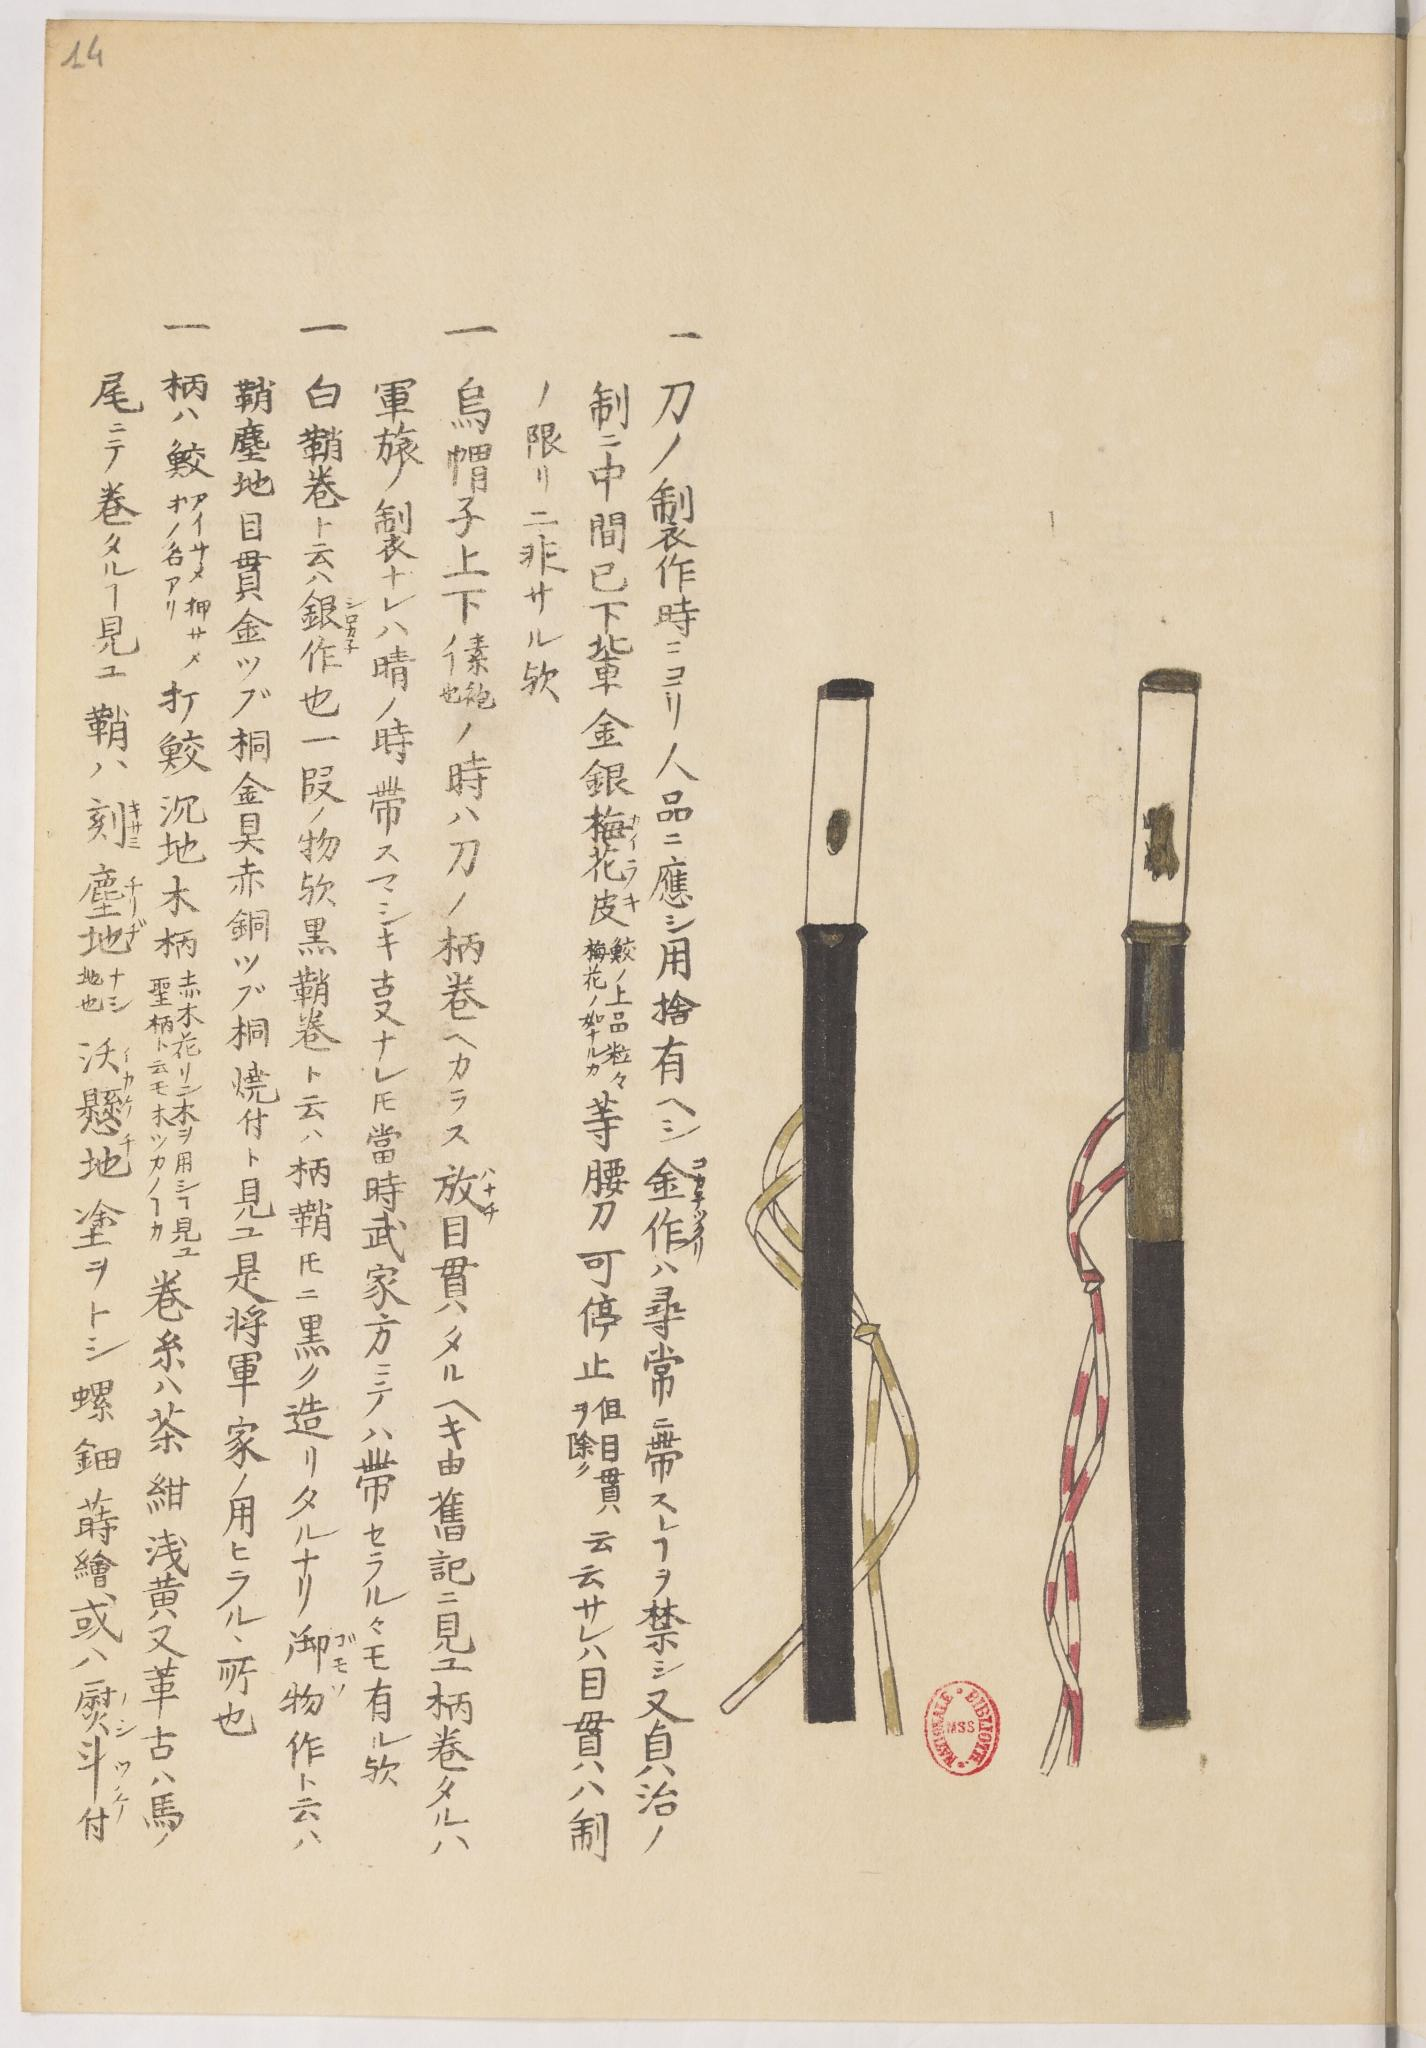MainZone-Character: (72, 862, 153, 920), (72, 1074, 140, 1136), (67, 1679, 139, 1737), (433, 1163, 500, 1223), (283, 1622, 360, 1675), (641, 1152, 715, 1206), (81, 792, 146, 853), (296, 585, 366, 636), (75, 1788, 137, 1846), (73, 1131, 139, 1184), (645, 1211, 711, 1262), (68, 1738, 139, 1785), (76, 918, 156, 959), (277, 1676, 347, 1721), (579, 800, 645, 848), (293, 638, 366, 674), (582, 887, 645, 929), (582, 843, 645, 885), (73, 1033, 137, 1074)
MainZone-Ruby: (332, 1626, 363, 1673), (114, 1690, 142, 1740), (478, 1164, 498, 1223), (693, 1152, 713, 1208), (691, 1211, 711, 1264), (342, 590, 364, 638), (126, 797, 143, 853), (112, 1787, 134, 1827), (121, 1074, 137, 1120), (126, 873, 142, 917), (621, 853, 641, 885), (627, 809, 643, 851), (125, 920, 149, 945), (114, 1751, 132, 1780), (624, 889, 643, 915), (328, 1681, 352, 1701), (121, 1133, 140, 1158), (342, 640, 363, 661), (118, 1044, 137, 1068)
